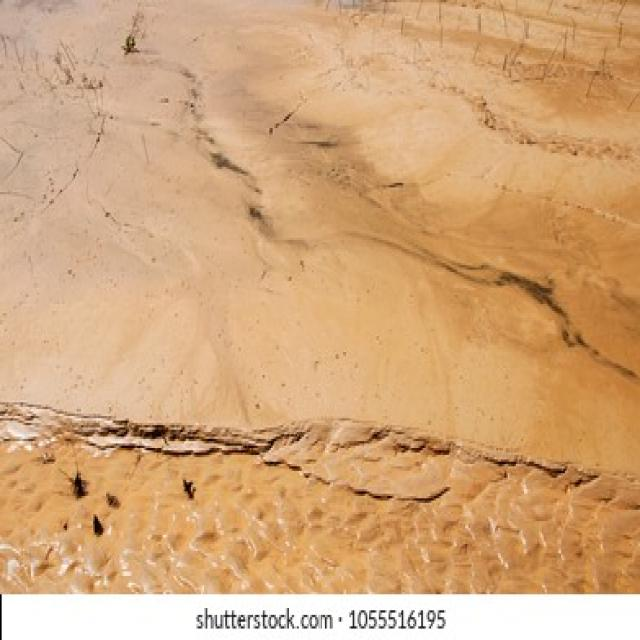Alluvial Soil: (64, 69, 579, 543)
